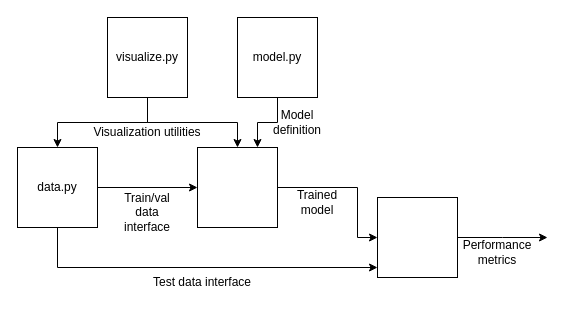
Image size: 573x315. Some labels were removed from this diagram. The shapes that lost their labels are listed below. From the top down, each one's box as (x1, y1, x2, y2) in pixels, then its label:
(196, 146, 278, 228): train .py
(376, 196, 458, 278): evaluate.py
